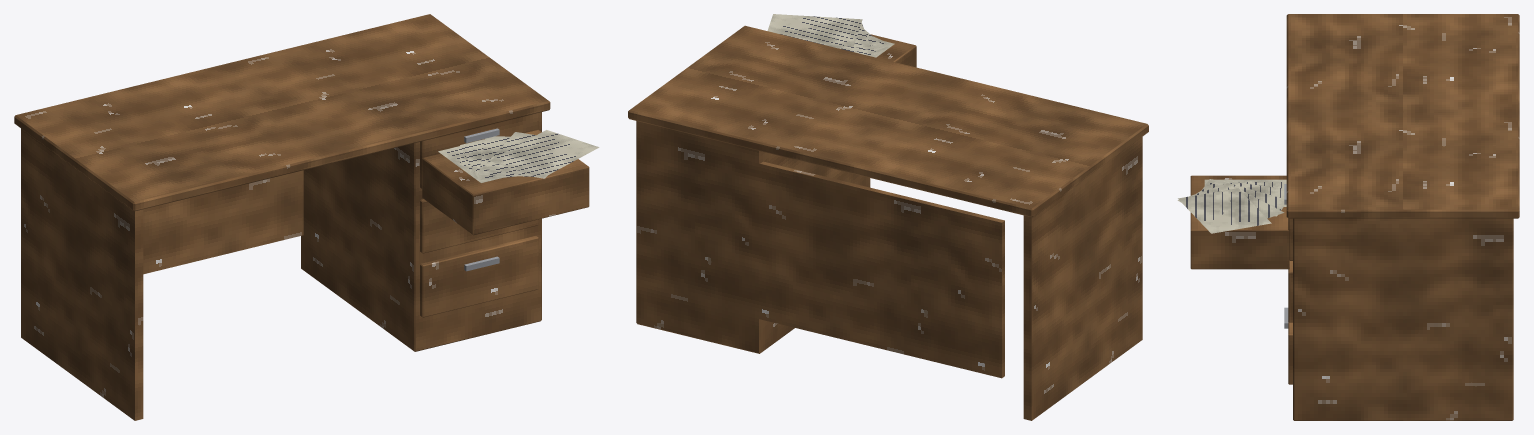
The model's file is Lab_TeacherDesk.fbx.
3 views of the same model, side by side, from view 1: azimuth 30°, elevation 25°; view 2: azimuth 150°, elevation 25°; view 3: azimuth 270°, elevation 25° (orthographic). The views are drawn at different scales.
Visible parts, largest first — view 1: Lab_TeacherDesk; view 2: Lab_TeacherDesk; view 3: Lab_TeacherDesk.
Part boxes in pixels (box(x1,y1,x2,y2)): Lab_TeacherDesk: box(14, 14, 599, 420); Lab_TeacherDesk: box(628, 14, 1148, 420); Lab_TeacherDesk: box(1177, 14, 1519, 420).
Bounding box in the file's own units: 1.53 × 0.76 × 1.1.
